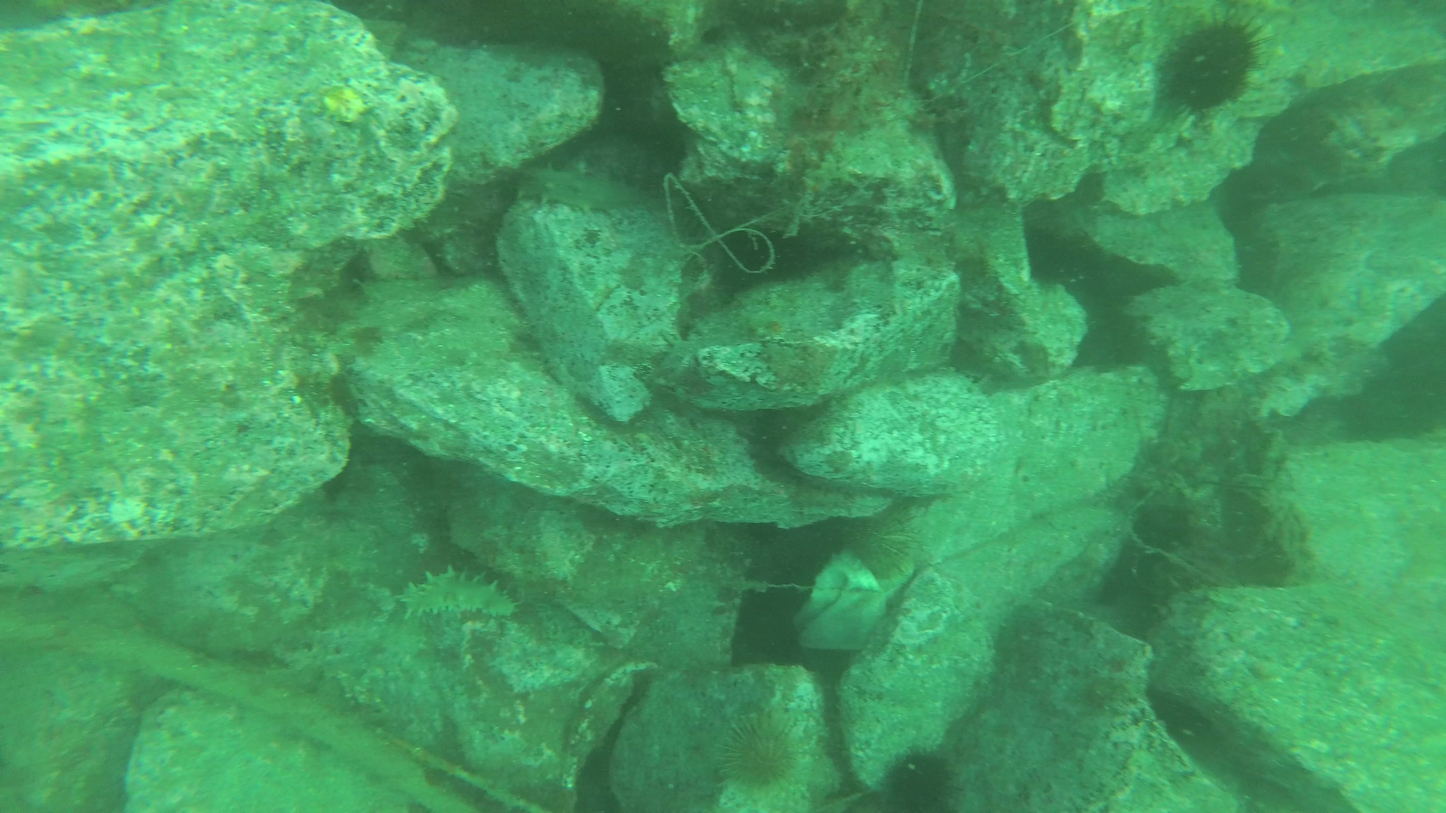echinus: (515, 159, 650, 221), (388, 567, 524, 626)
starfish: (1152, 14, 1272, 121), (712, 712, 809, 807), (824, 510, 917, 583), (871, 748, 965, 811)
